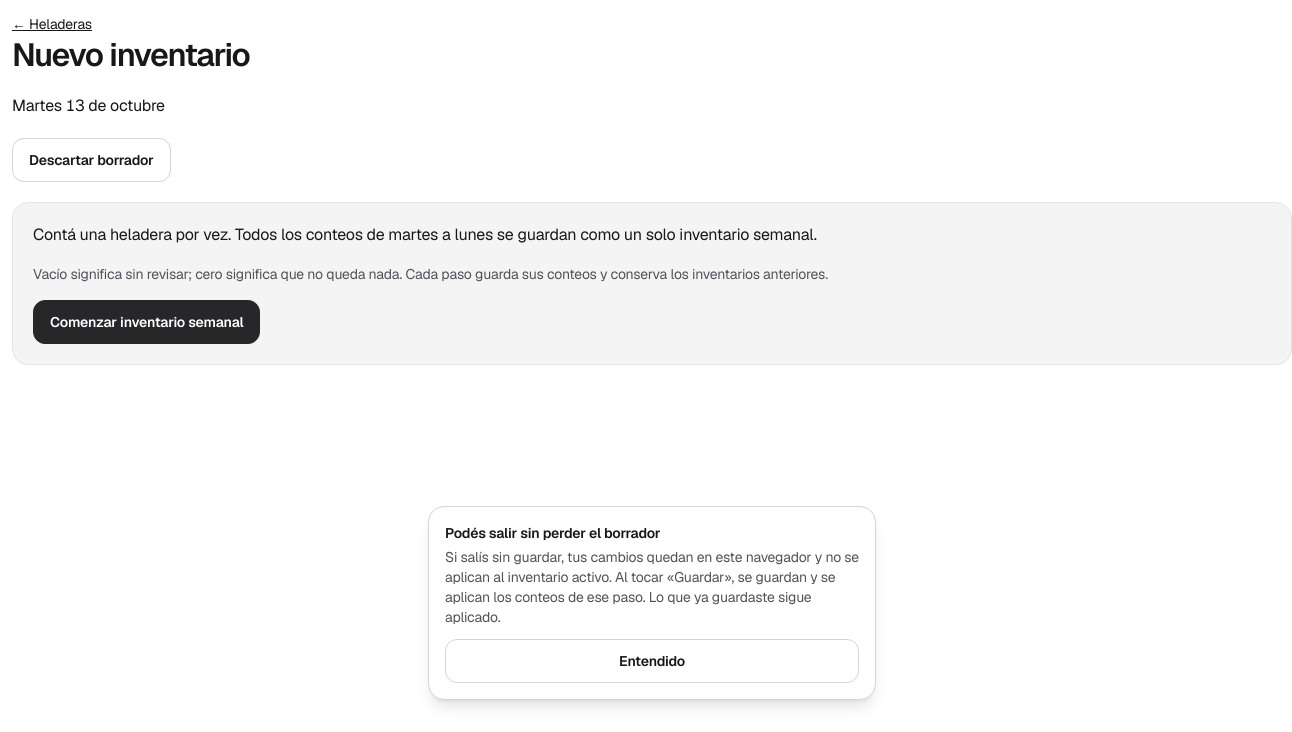
Test: warns when browser storage fails while retaining the entered quantities
Click the button "Comenzar inventario semanal" at (147, 322), box [33,300,260,344]
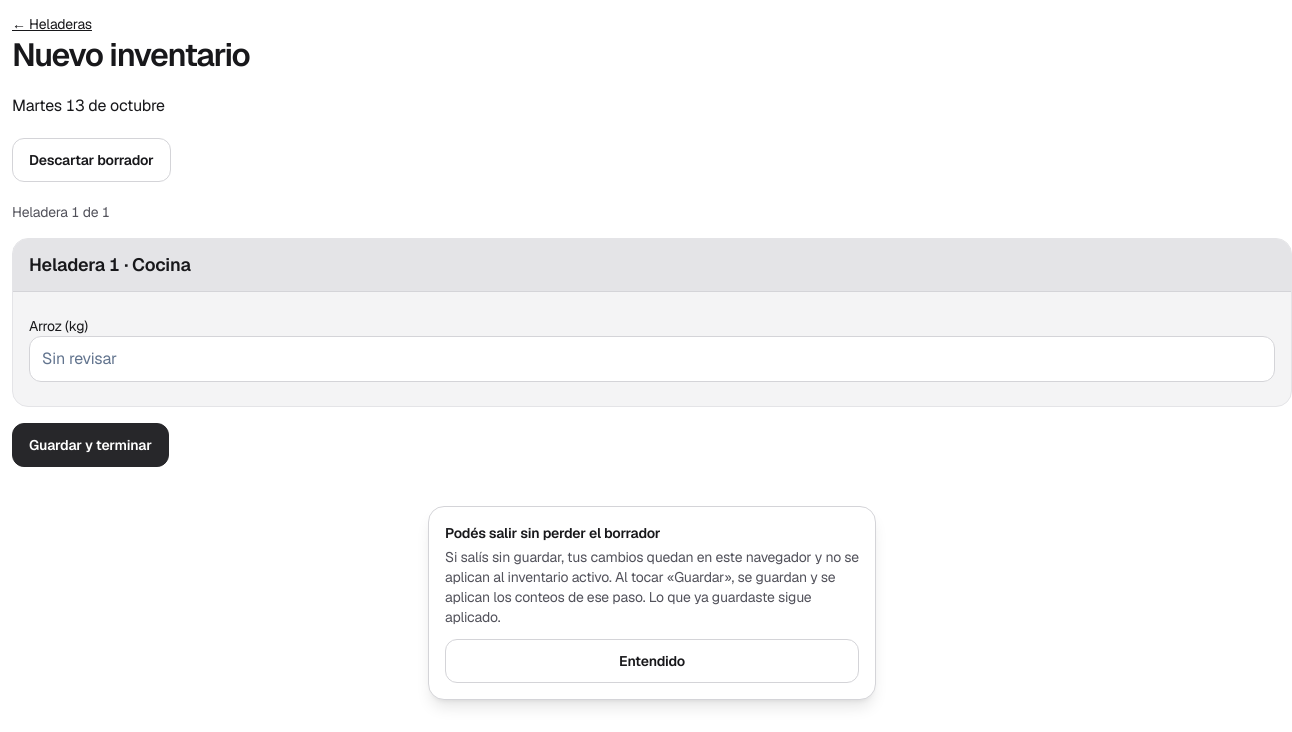
Type "9" into the number field at (652, 359), box [29,336,1275,382]
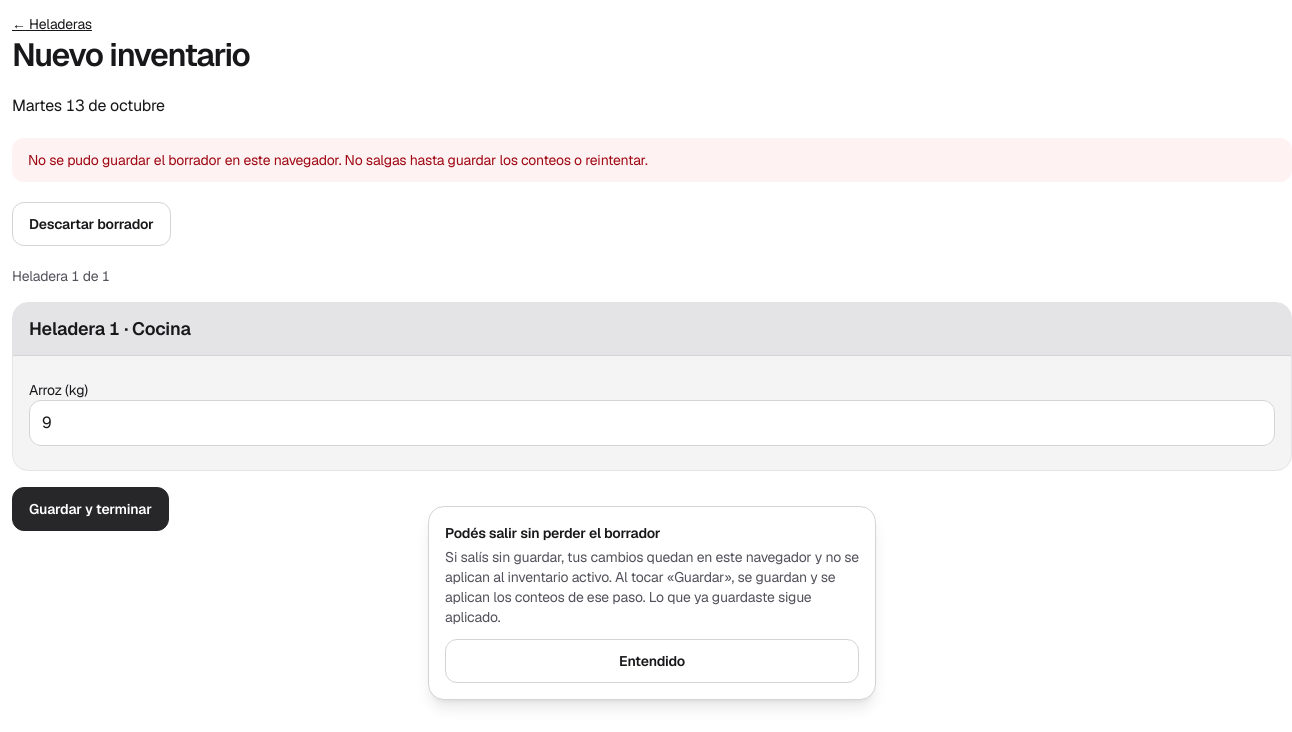
Expected: the text "No se pudo guardar el borrador" is shown, [28,151,648,169]
